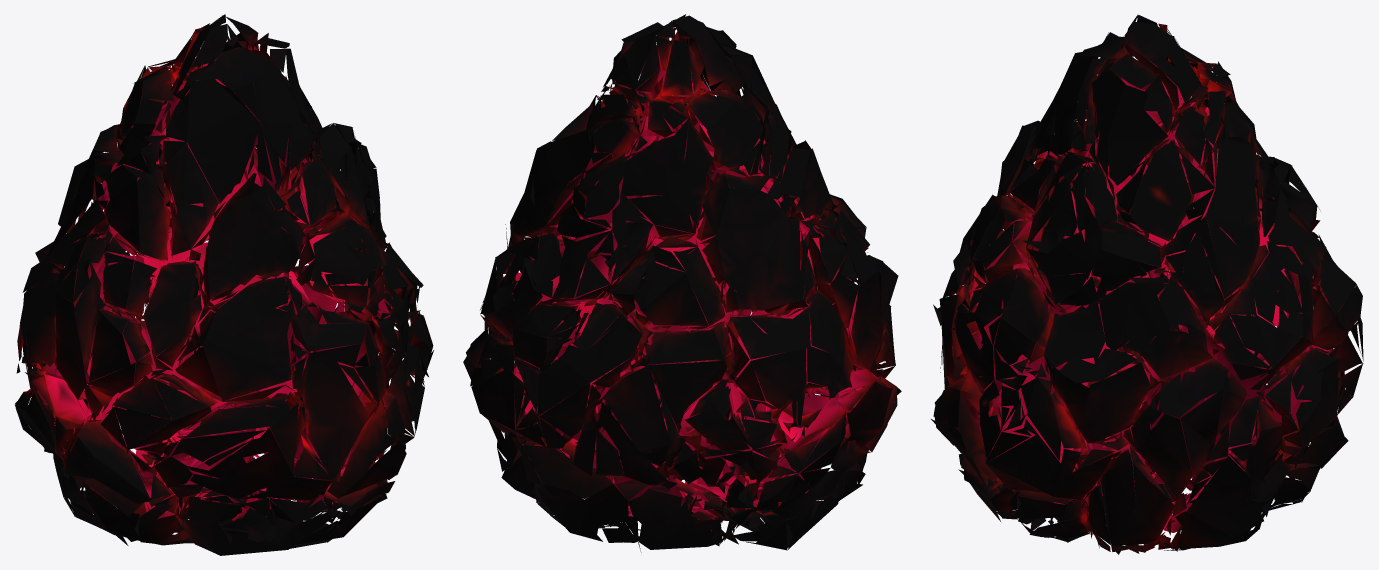
Rendered from ash_rock.glb.
3 views of the same model, side by side, from view 1: azimuth 30°, elevation 25°; view 2: azimuth 150°, elevation 25°; view 3: azimuth 270°, elevation 25° (orthographic).
Visible parts, largest first — view 1: ash_rock_body; view 2: ash_rock_body; view 3: ash_rock_body.
Part boxes in pixels (<box>): ash_rock_body: <box>15,14,433,555</box>; ash_rock_body: <box>463,14,901,552</box>; ash_rock_body: <box>931,14,1363,554</box>.
Bounding box in the file's own units: 2.57 × 3.22 × 2.59.
Materials: 1 (1 with a texture image).
